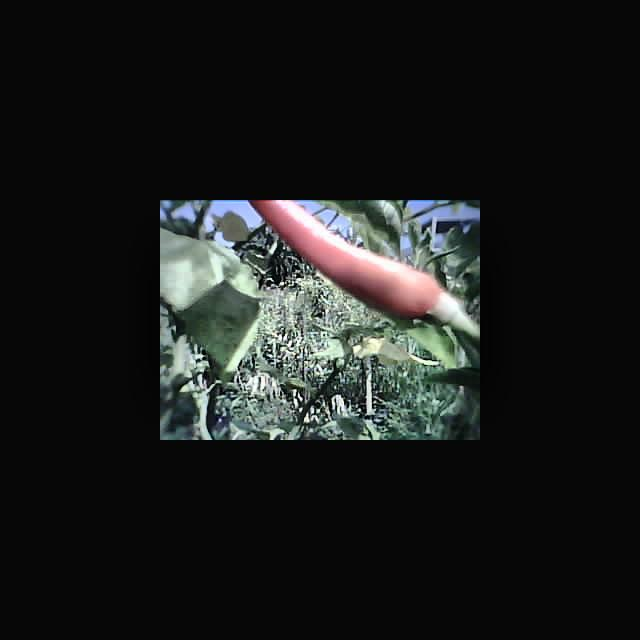Cabai: (258, 200, 480, 334)
